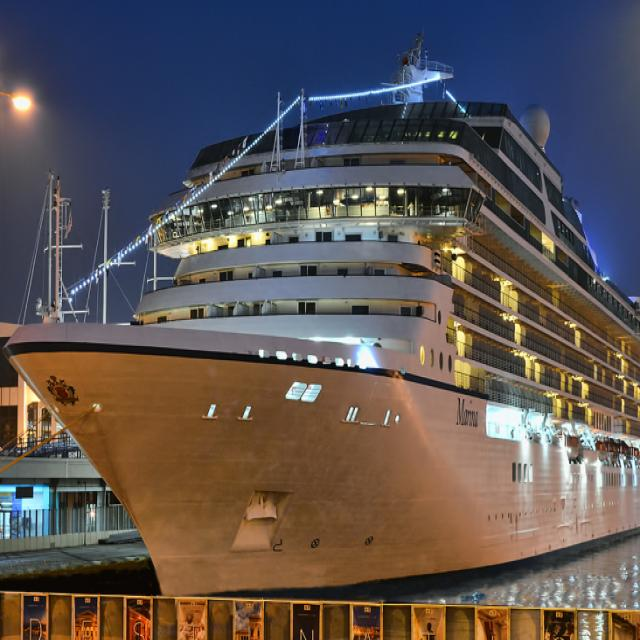cruises: (1, 27, 640, 599)
